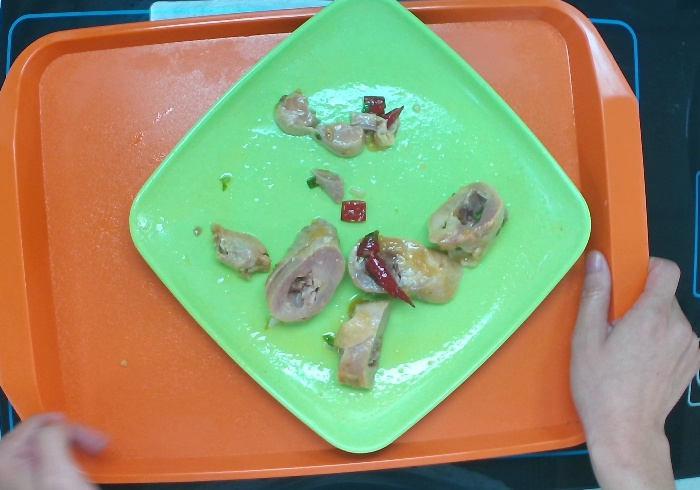ZNLD-Lv_Fang_Pan: (127, 1, 595, 457)
